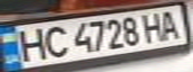2: (103, 16, 127, 50)
4: (69, 19, 93, 54)
7: (87, 18, 109, 52)
8: (121, 14, 145, 47)
A: (154, 8, 184, 41)
C: (39, 22, 72, 58)
H: (9, 25, 51, 62), (139, 10, 169, 43)
